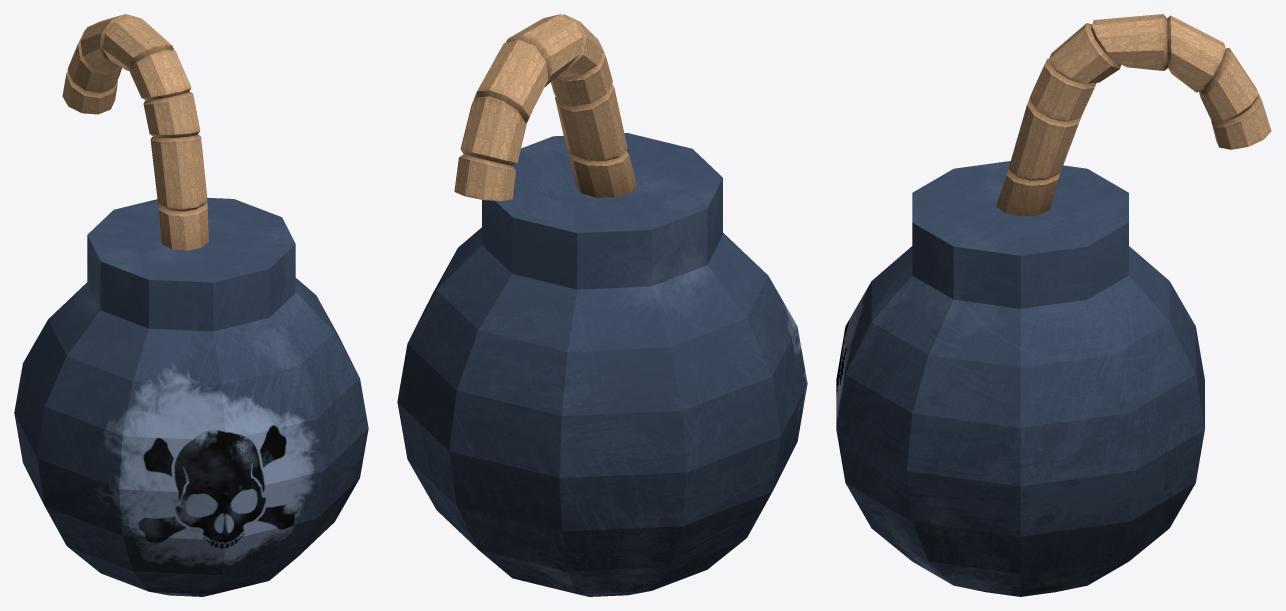
Rendered from Bomba.fbx.
3 renders of one model, left to right at view 1: azimuth 30°, elevation 25°; view 2: azimuth 150°, elevation 25°; view 3: azimuth 270°, elevation 25°, orthographic. The views are drawn at different scales.
Visible parts, largest first — view 1: Bomba, Cuerda; view 2: Bomba, Cuerda; view 3: Bomba, Cuerda.
Boxes of the visible parts, x1,y1,x2,y2 form: Bomba: (14, 197, 368, 596); Cuerda: (62, 14, 208, 250); Bomba: (397, 133, 807, 596); Cuerda: (454, 14, 636, 201); Bomba: (836, 161, 1204, 596); Cuerda: (996, 14, 1271, 216).
Bounding box in the file's own units: 2 × 3.21 × 2.25.
